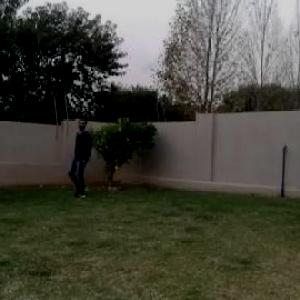follow: (70, 113, 91, 199)
